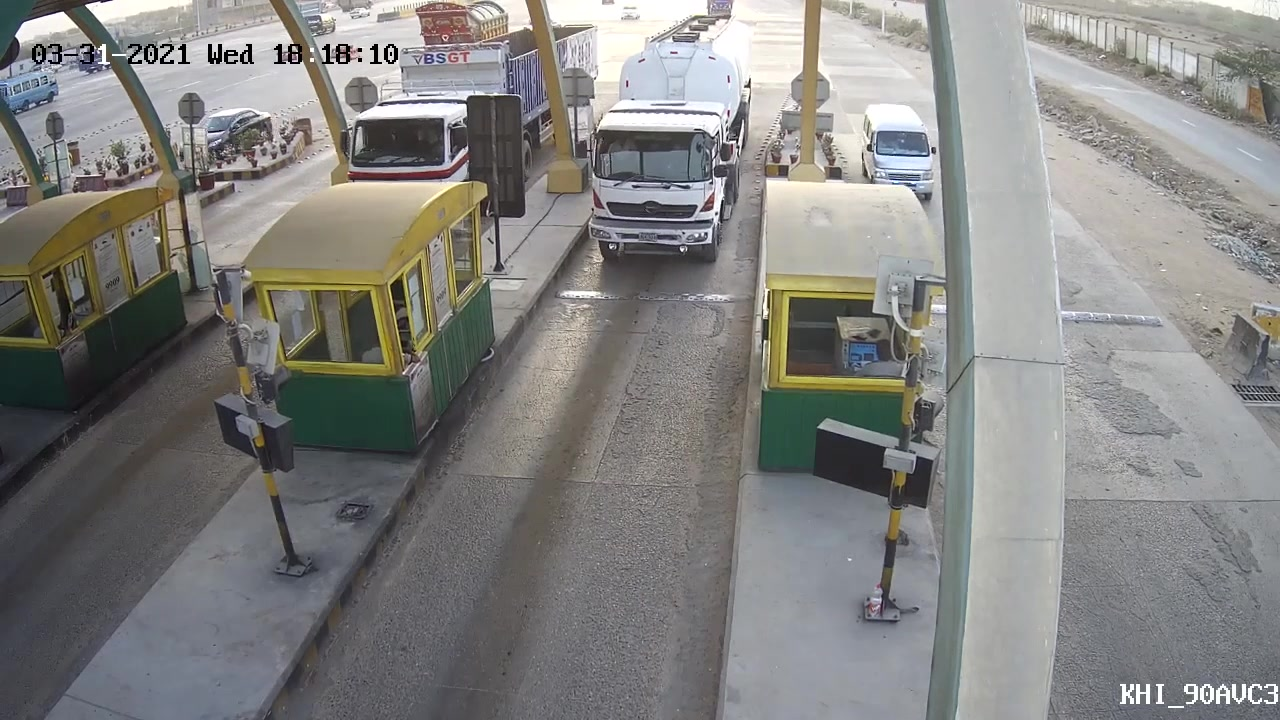F6: (577, 13, 765, 267)
